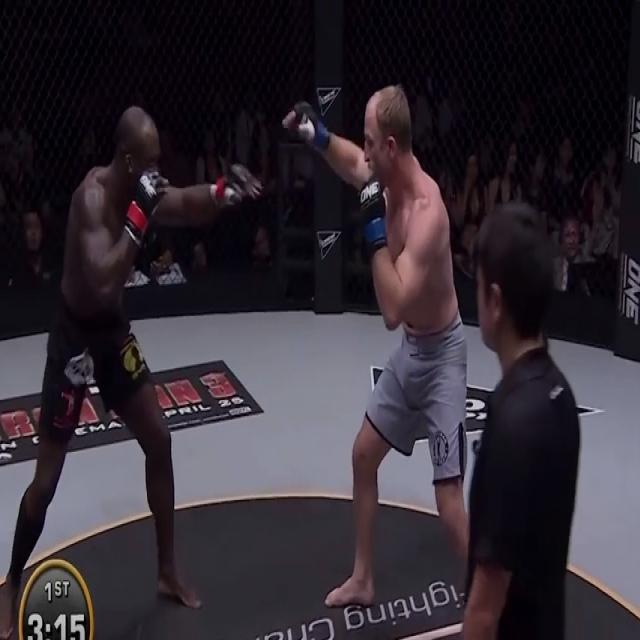fight: (6, 80, 477, 637)
non-fight: (452, 194, 586, 640)
